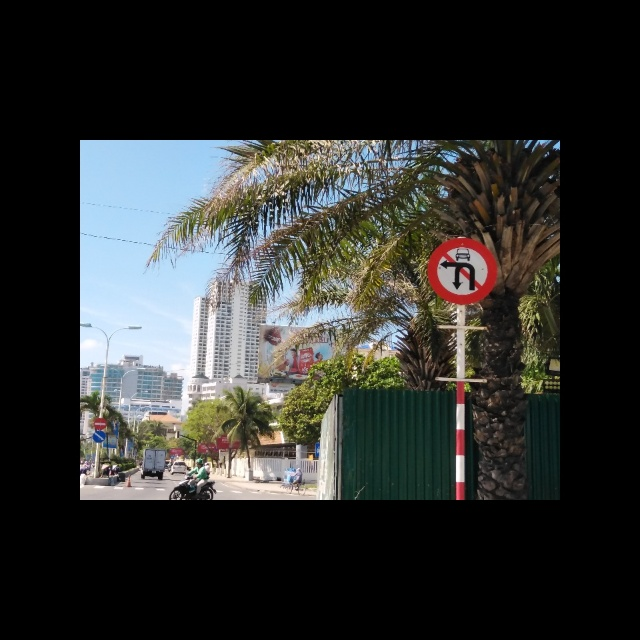Cấm xe ô tô quay đầu và rẽ trái: (426, 236, 498, 307)
